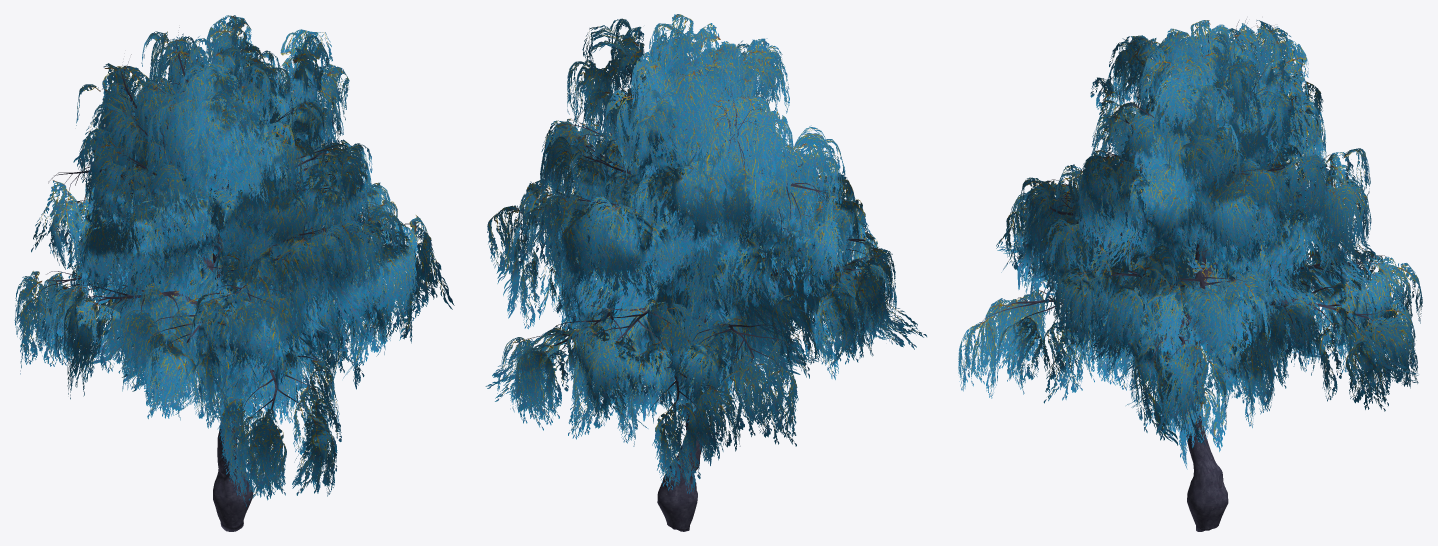
3 views of the same model, side by side, from view 1: azimuth 30°, elevation 25°; view 2: azimuth 150°, elevation 25°; view 3: azimuth 270°, elevation 25° (orthographic).
Parts seen in each view (by area): view 1: SM_Willow_03_LOD0; view 2: SM_Willow_03_LOD0; view 3: SM_Willow_03_LOD0.
Part boxes in pixels (x1,y1,x2,y2): SM_Willow_03_LOD0: (14, 15, 454, 531); SM_Willow_03_LOD0: (485, 14, 926, 531); SM_Willow_03_LOD0: (958, 19, 1422, 531).
Bounding box in the file's own units: 19.24 × 23.26 × 19.17.
Materials: 2 (2 with a texture image).
